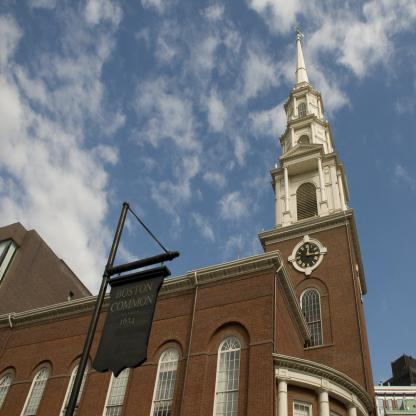North Church: (244, 10, 394, 416)
